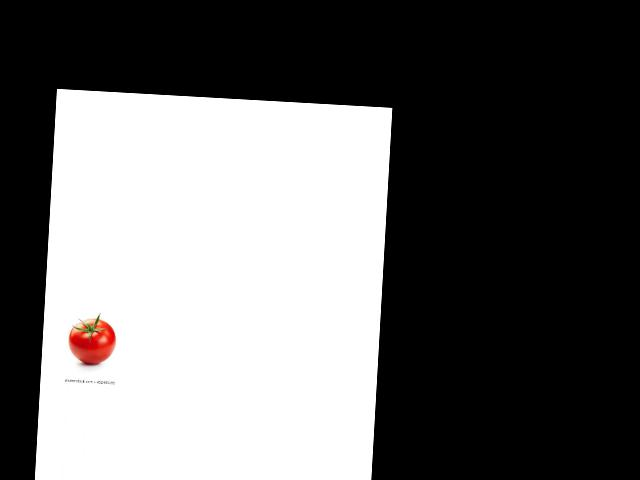tomato: (68, 317, 116, 365)
